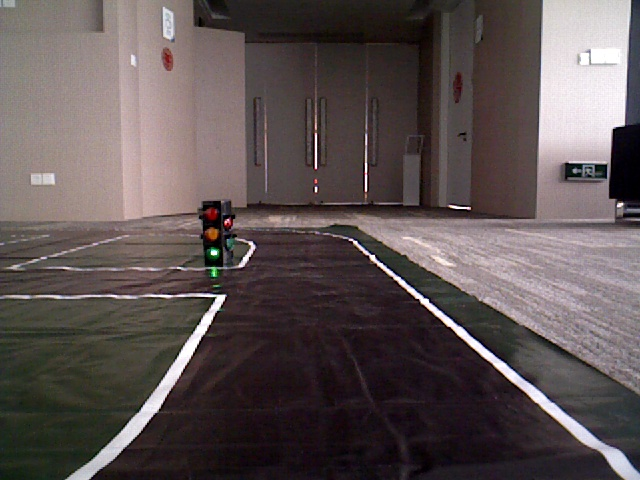green: (204, 204, 224, 264)
